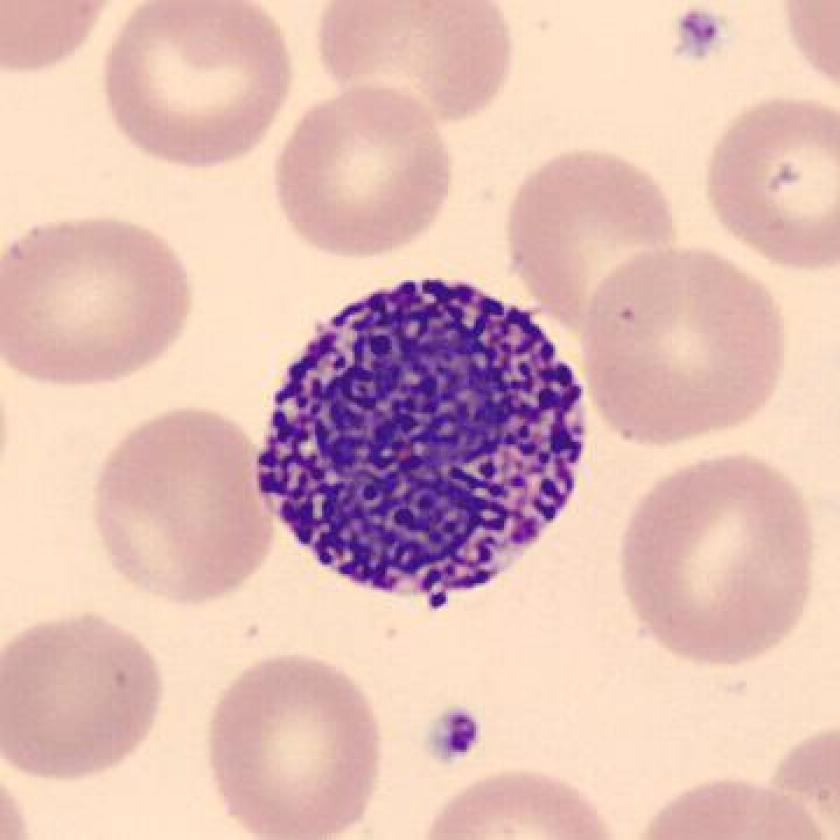basophil: (246, 265, 591, 607)
